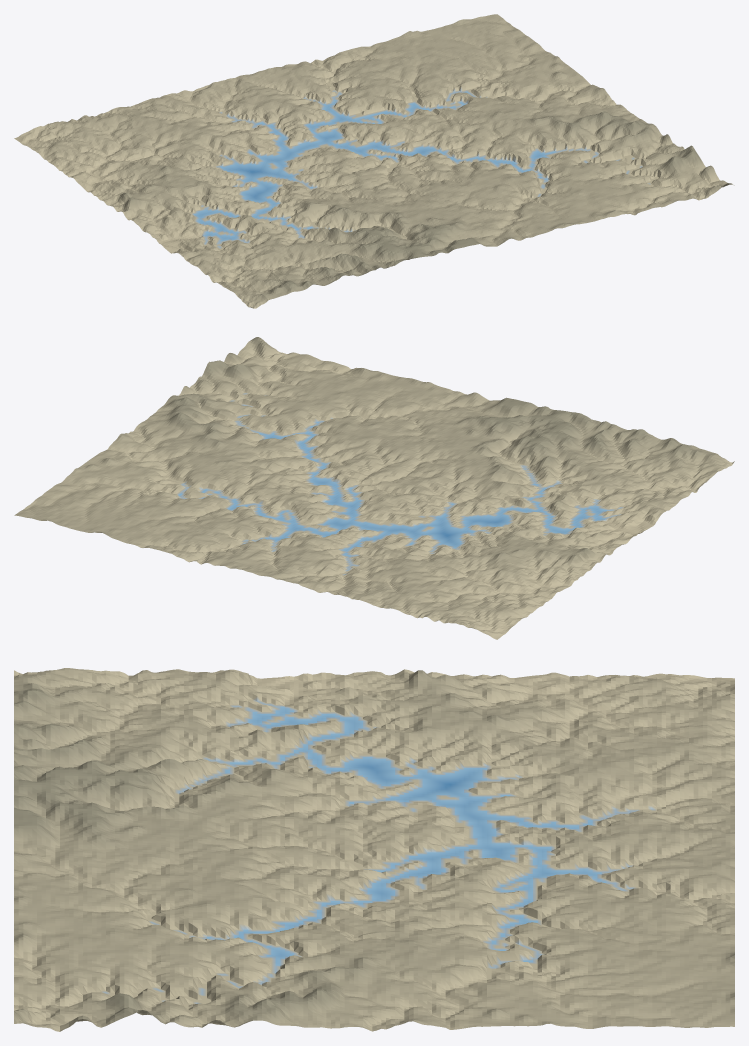
The model's file is dale_hollow_lake_tn.glb.
3 renders of one model, top to bottom at view 1: azimuth 30°, elevation 25°; view 2: azimuth 150°, elevation 25°; view 3: azimuth 270°, elevation 25°, orthographic. The views are drawn at different scales.
Parts seen in each view (by area): view 1: terrain, water; view 2: terrain, water; view 3: terrain, water.
Part boxes in pixels (x1=…): terrain: x1=14, y1=14, x2=734, y2=308; water: x1=194, y1=91, x2=555, y2=241; terrain: x1=14, y1=337, x2=734, y2=639; water: x1=178, y1=422, x2=606, y2=556; terrain: x1=14, y1=668, x2=734, y2=1031; water: x1=207, y1=706, x2=606, y2=965.
Bounding box in the file's own units: 35237 × 1228 × 29985.
